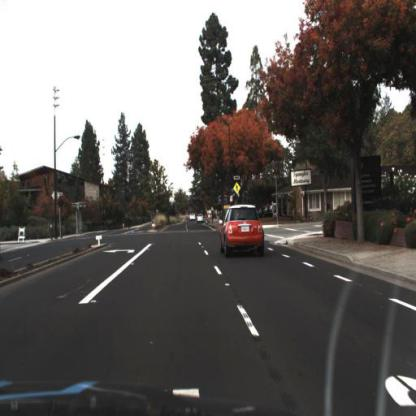car: (218, 203, 269, 256)
